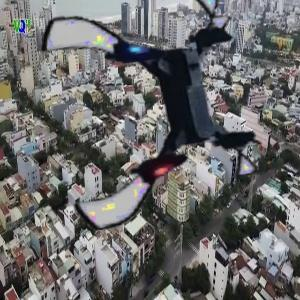drone: (39, 1, 263, 225)
